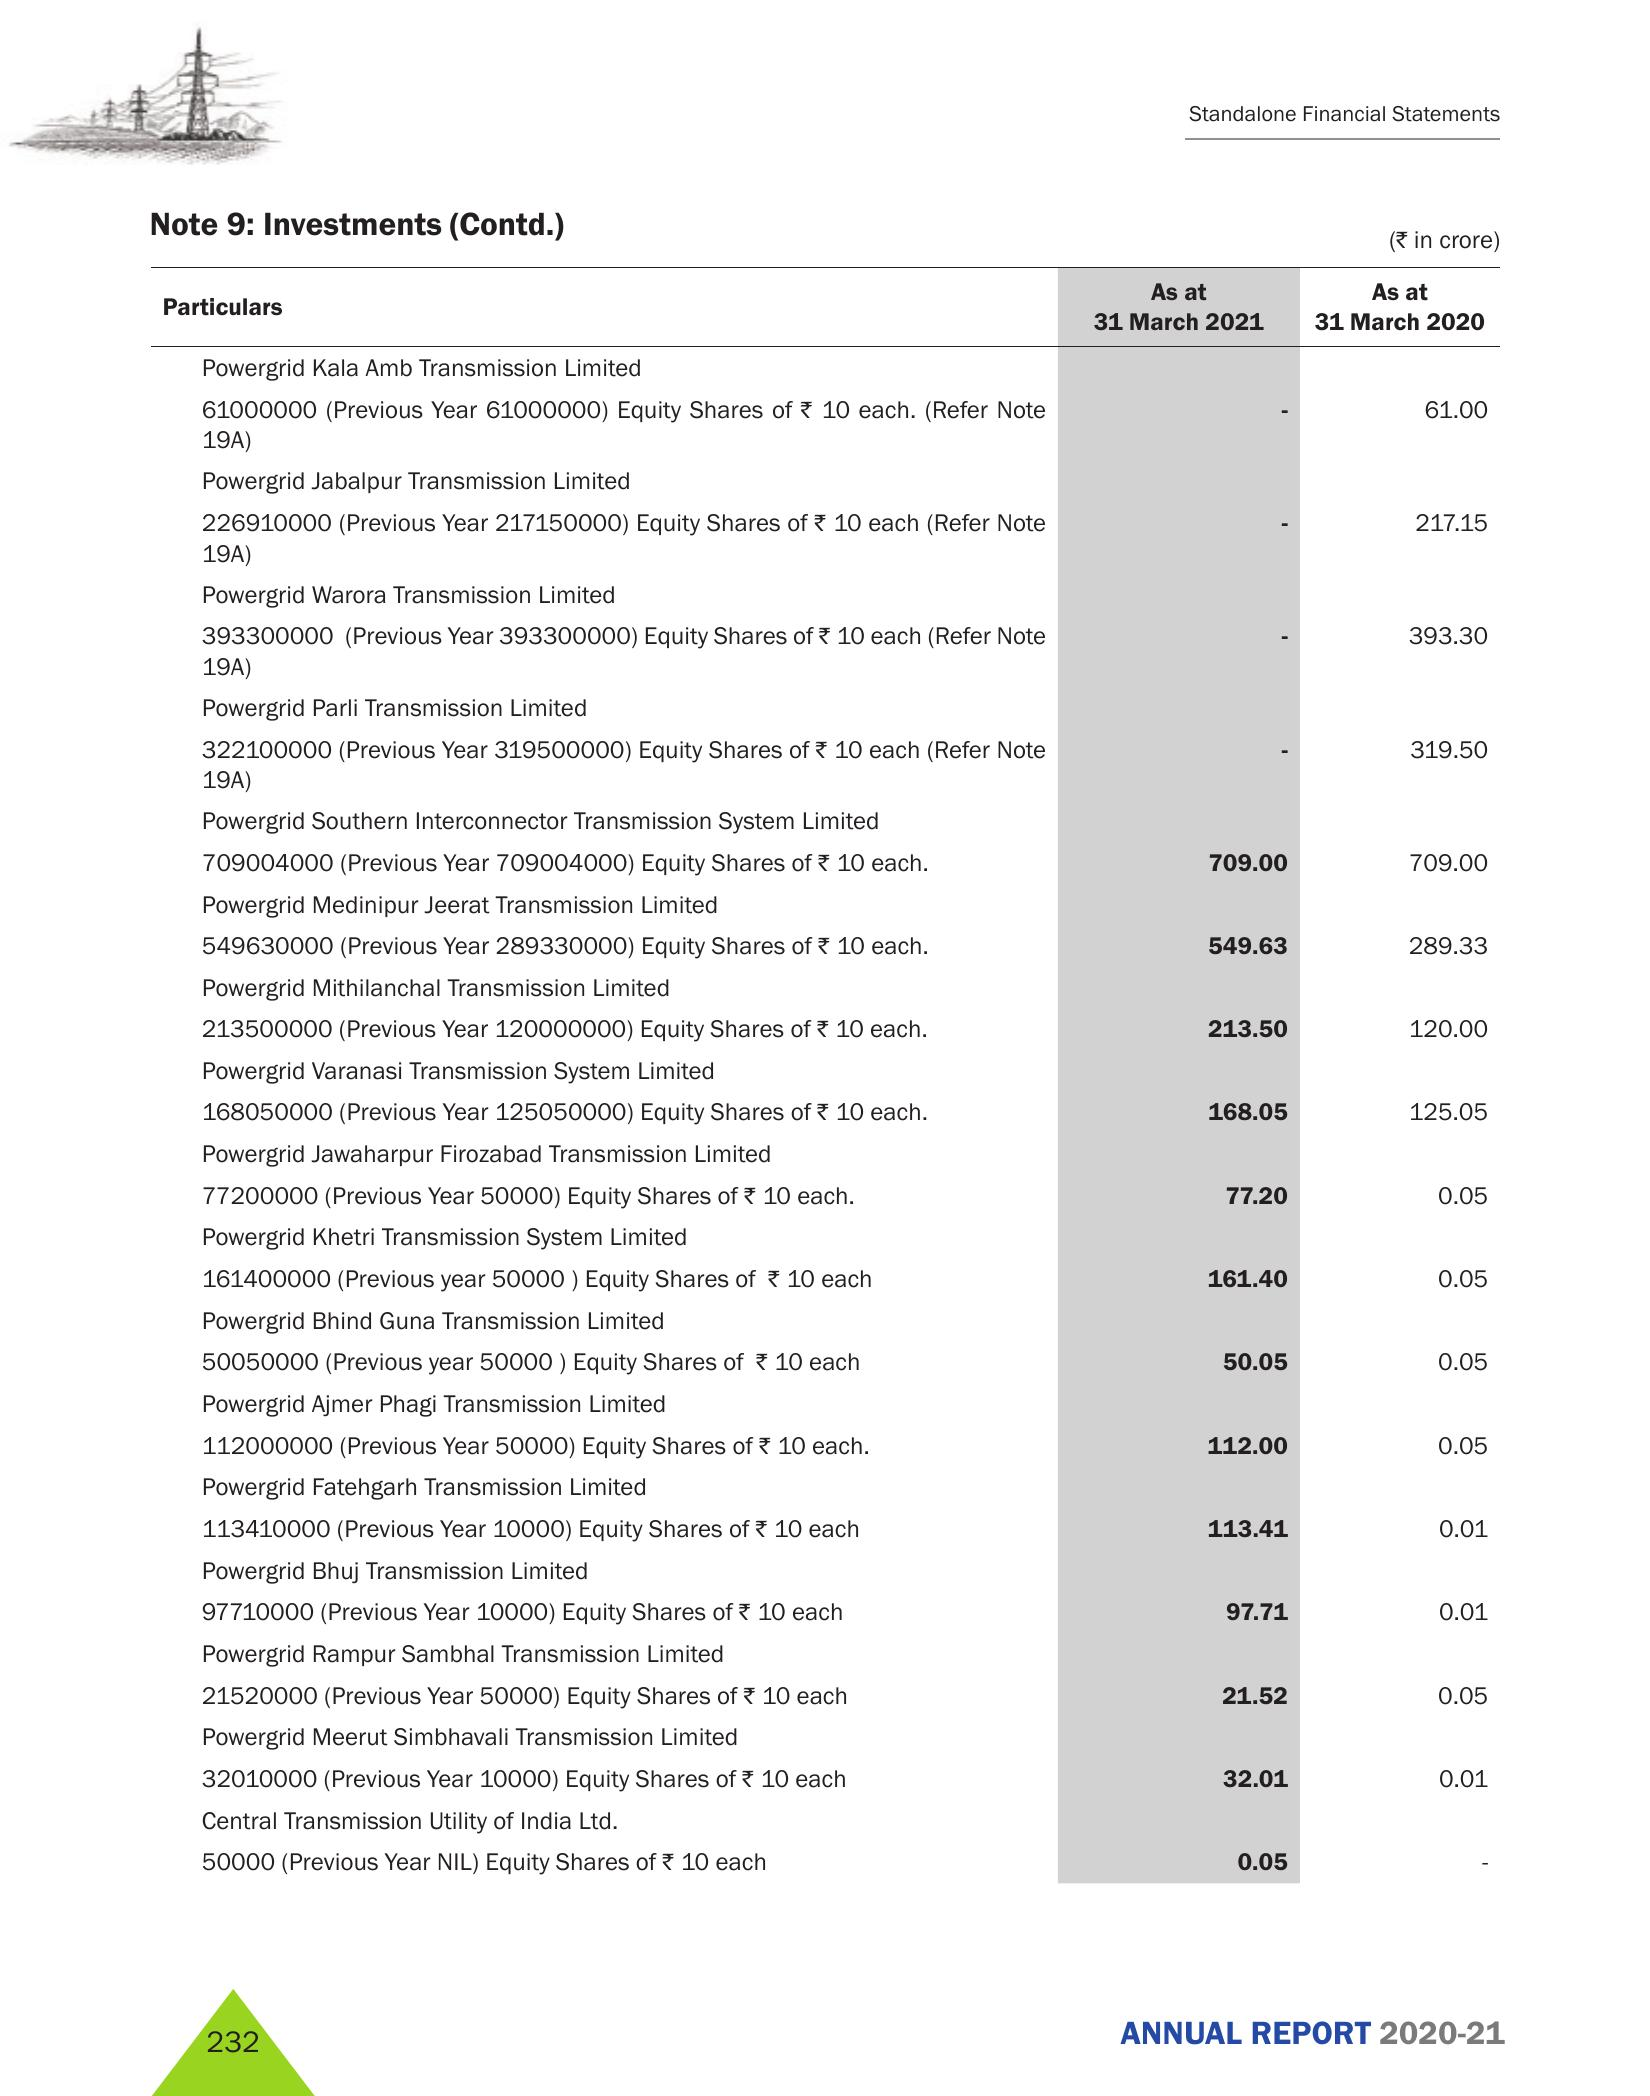Footer: (0, 1956, 1650, 2096)
Header: (0, 0, 1650, 175)
Table: (143, 260, 1551, 1883)
